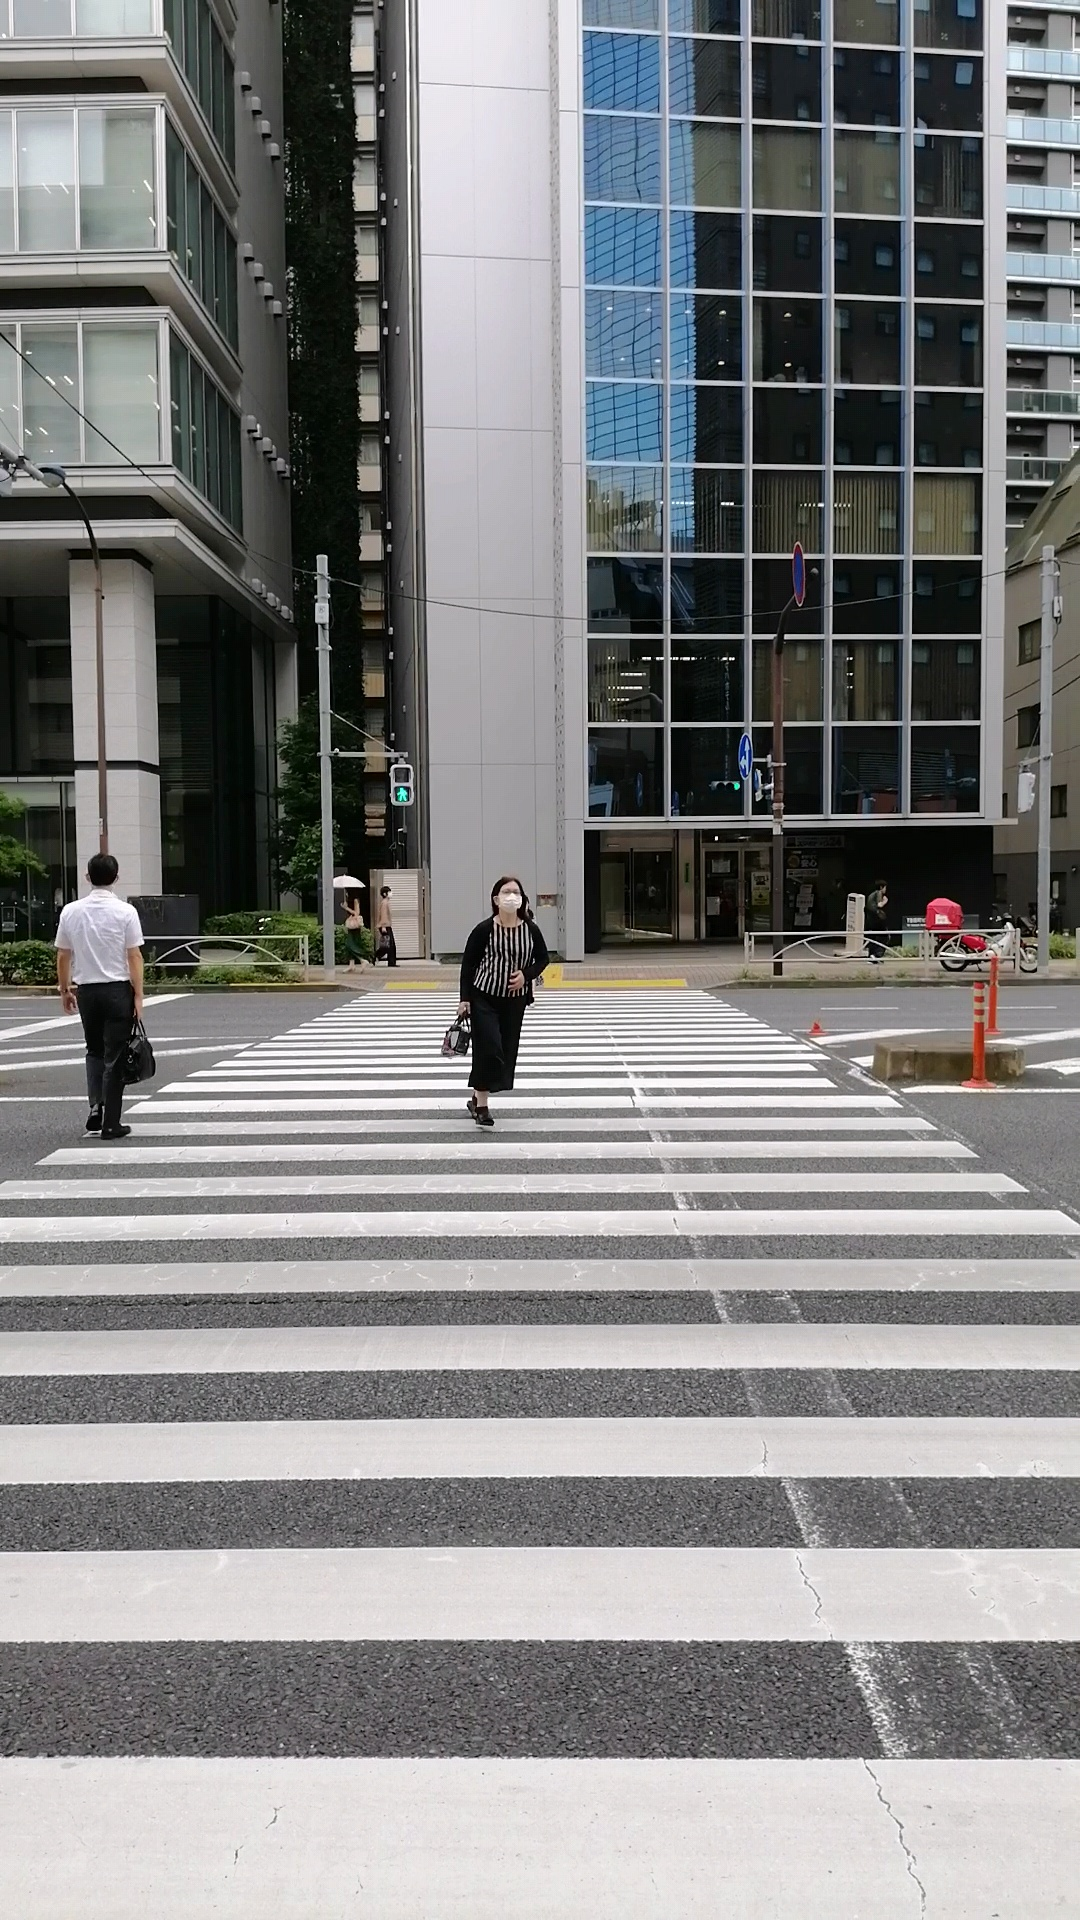green: (388, 762, 411, 807)
